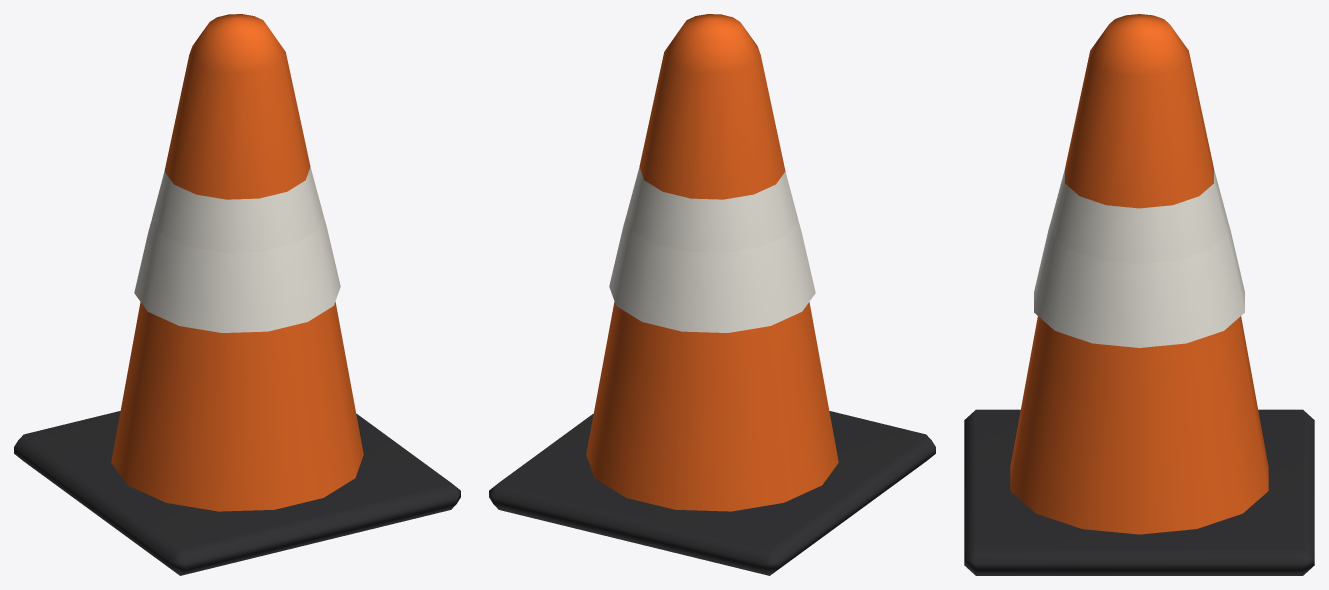
File: traffic_cone.glb
3 renders of one model, left to right at view 1: azimuth 30°, elevation 25°; view 2: azimuth 150°, elevation 25°; view 3: azimuth 270°, elevation 25°, orthographic. The views are drawn at different scales.
Visible parts, largest first — view 1: traffic_cone; view 2: traffic_cone; view 3: traffic_cone.
Part boxes in pixels (x1,y1,x2,y2): traffic_cone: (14, 14, 460, 575); traffic_cone: (489, 14, 935, 575); traffic_cone: (964, 14, 1314, 575).
Size of the model in its own units: 0.45 by 0.69 by 0.45.
